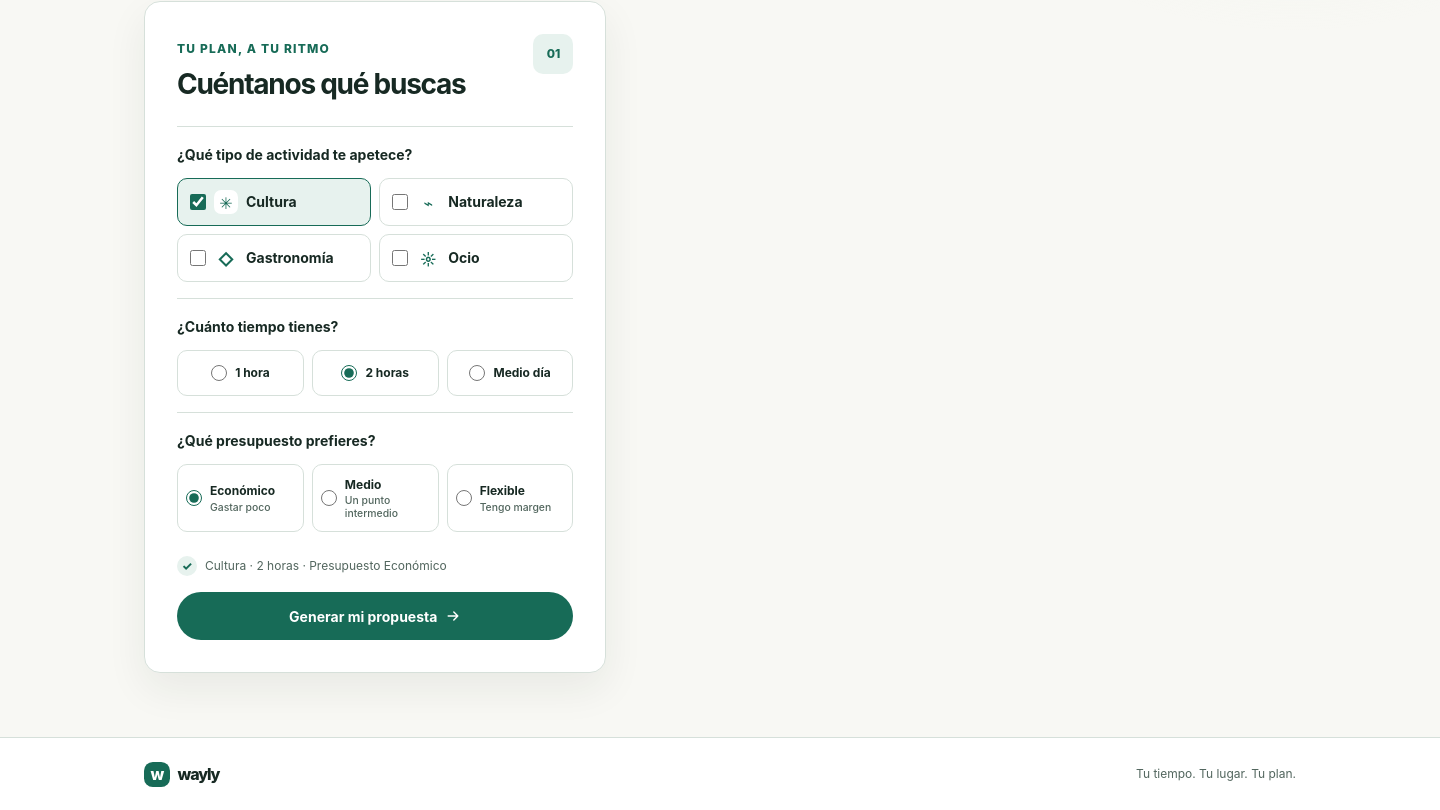
Scenario: DiscoverPageComponent › shows an empty catalog as a valid generated result state
(page scrolled)
Click the button "Generar mi propuesta" at (375, 616), box 177,592 -> 574,640
(page scrolled)
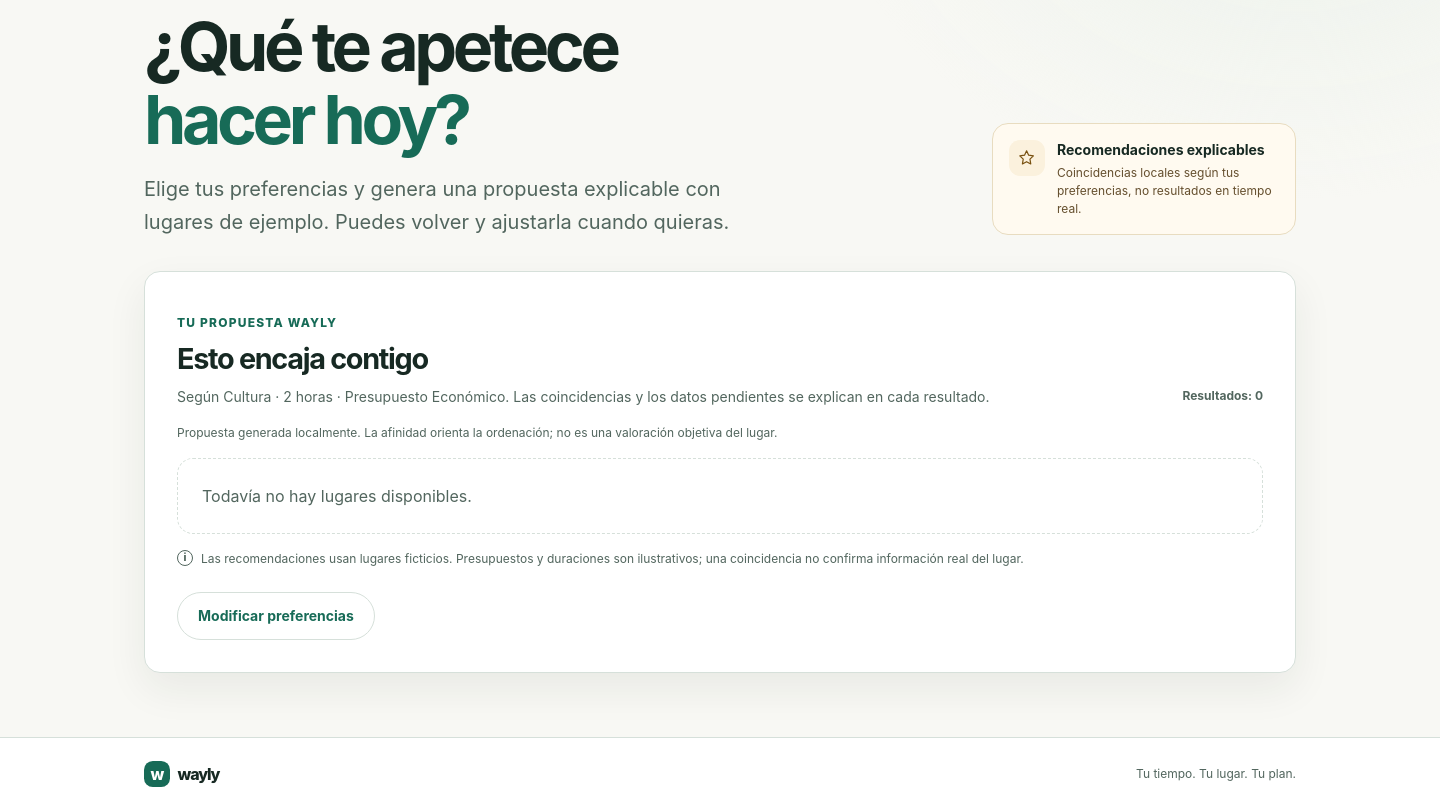
Result: the text with class "empty-message" shows "Todavía no hay lugares disponibles" at 202,486 -> 472,506
Result: the message shows "Propuesta generada localmente" at 177,425 -> 778,440
